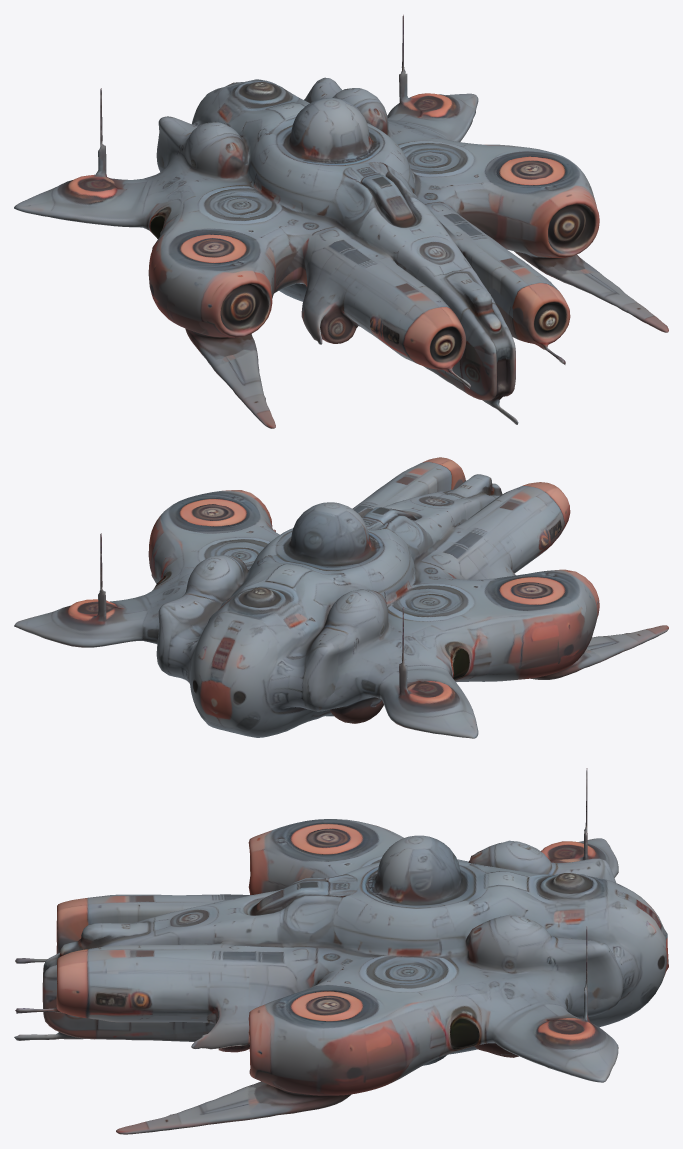
Rendered from enemigo 3.fbx.
The picture shows the model from 3 angles, top to bottom: view 1: azimuth 30°, elevation 25°; view 2: azimuth 150°, elevation 25°; view 3: azimuth 270°, elevation 25°; orthographic projection. The views are drawn at different scales.
Parts seen in each view (by area): view 1: Nave enemiga 3; view 2: Nave enemiga 3; view 3: Nave enemiga 3.
Boxes of the visible parts, box(x1,y1,x2,y2) form: Nave enemiga 3: box(14, 14, 668, 428); Nave enemiga 3: box(14, 457, 668, 738); Nave enemiga 3: box(14, 768, 668, 1134).
Bounding box in the file's own units: 167 × 71.25 × 190.
